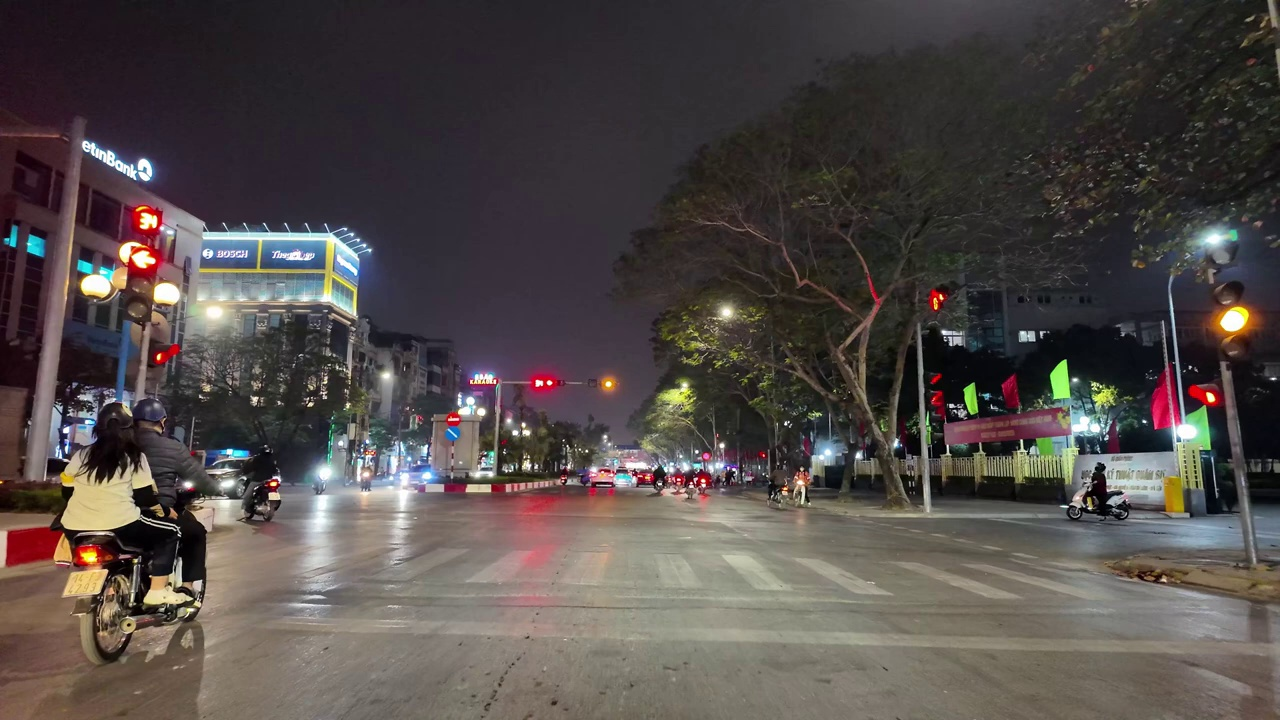acesa: (1214, 304, 1254, 340), (198, 297, 231, 327), (596, 374, 620, 396), (375, 368, 396, 392)
